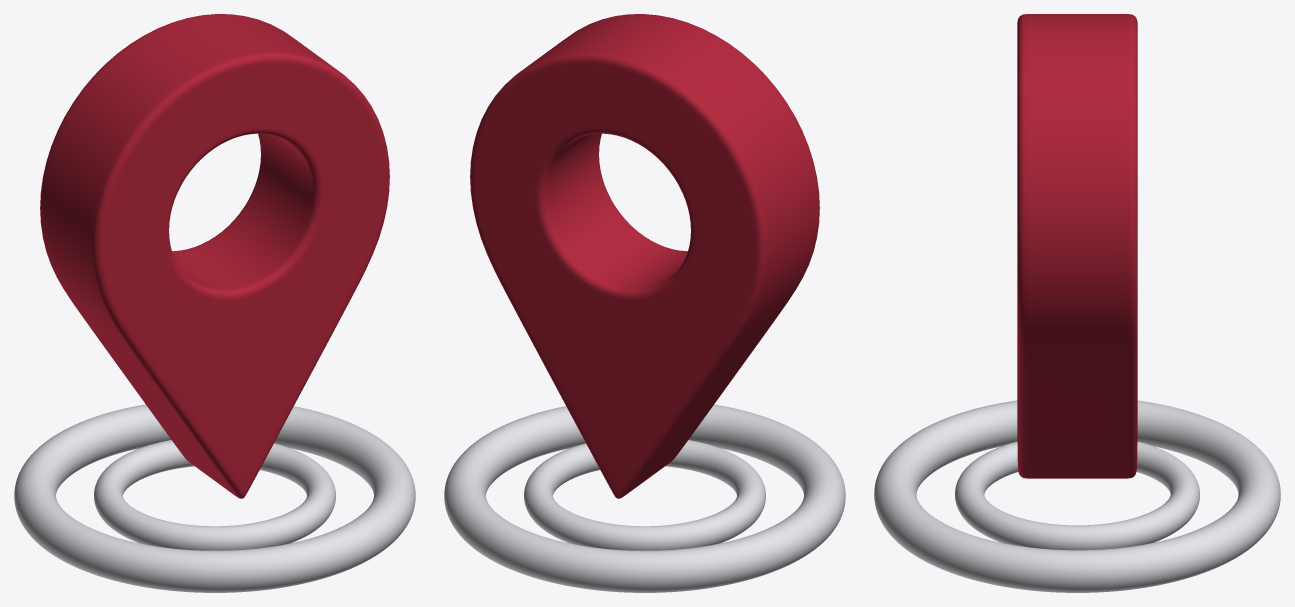
File: store.glb
3 renders of one model, left to right at view 1: azimuth 30°, elevation 25°; view 2: azimuth 150°, elevation 25°; view 3: azimuth 270°, elevation 25°, orthographic.
Parts seen in each view (by area): view 1: location; view 2: location; view 3: location.
Part boxes in pixels (left/top/right/bottom): location: left=14, top=14, right=415, bottom=592; location: left=444, top=14, right=845, bottom=592; location: left=874, top=14, right=1280, bottom=592.
Size of the model in its own units: 1.46 by 1.91 by 1.46.
